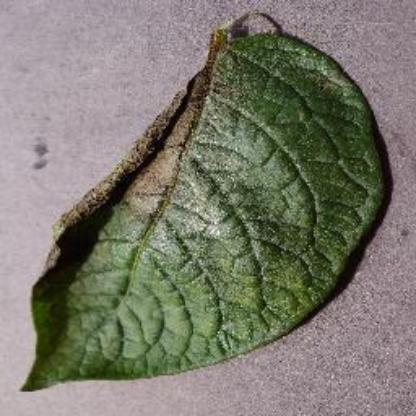Late-Blight: (25, 17, 390, 391)
